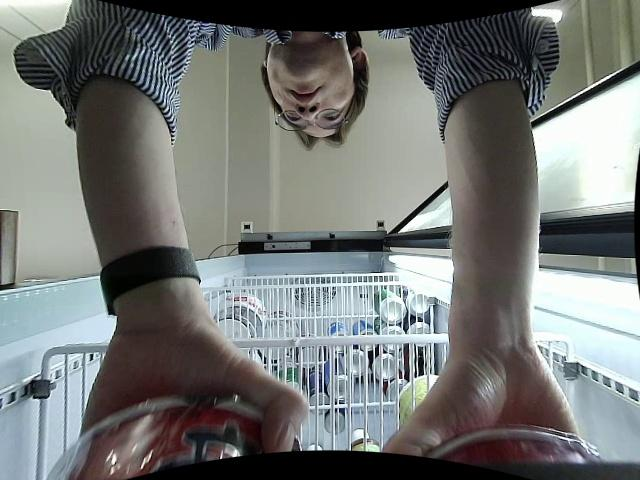00_hand: (81, 325, 310, 454), (387, 366, 583, 458)
01_shinRamen_L: (47, 398, 303, 480), (421, 426, 605, 480)
